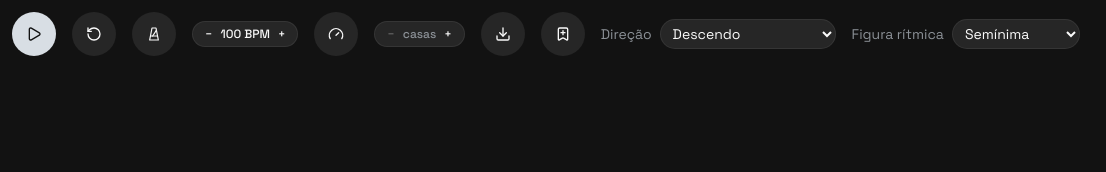
ControlBar › walking an exercise up the neck › offers to keep the change once the exercise has grown
Click the button named "repetir uma casa acima".
click(448, 34)  # box [444, 26, 452, 42]
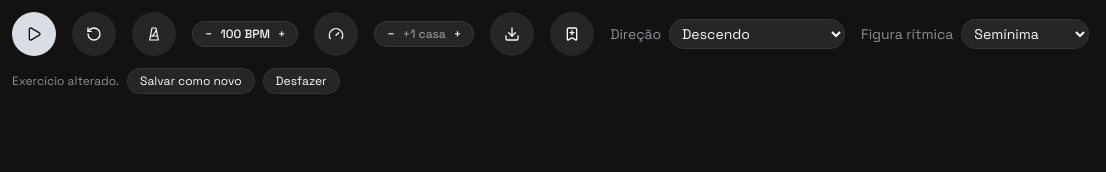
Expected: the text "Exercício alterado. Salvar como novo Desfazer" is shown, [12, 68, 340, 94]
Expected: the button "Salvar como novo" is shown, [127, 68, 255, 94]
